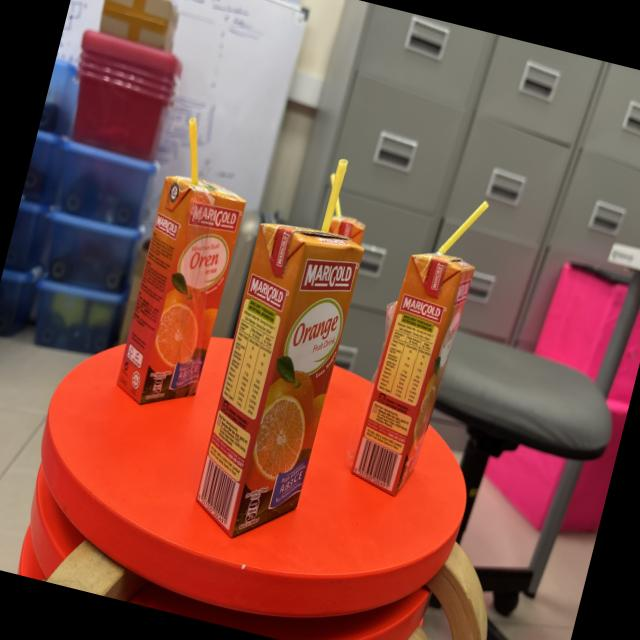drink_carton: (176, 136, 394, 564), (336, 175, 502, 512), (103, 99, 271, 427), (305, 160, 384, 262)
